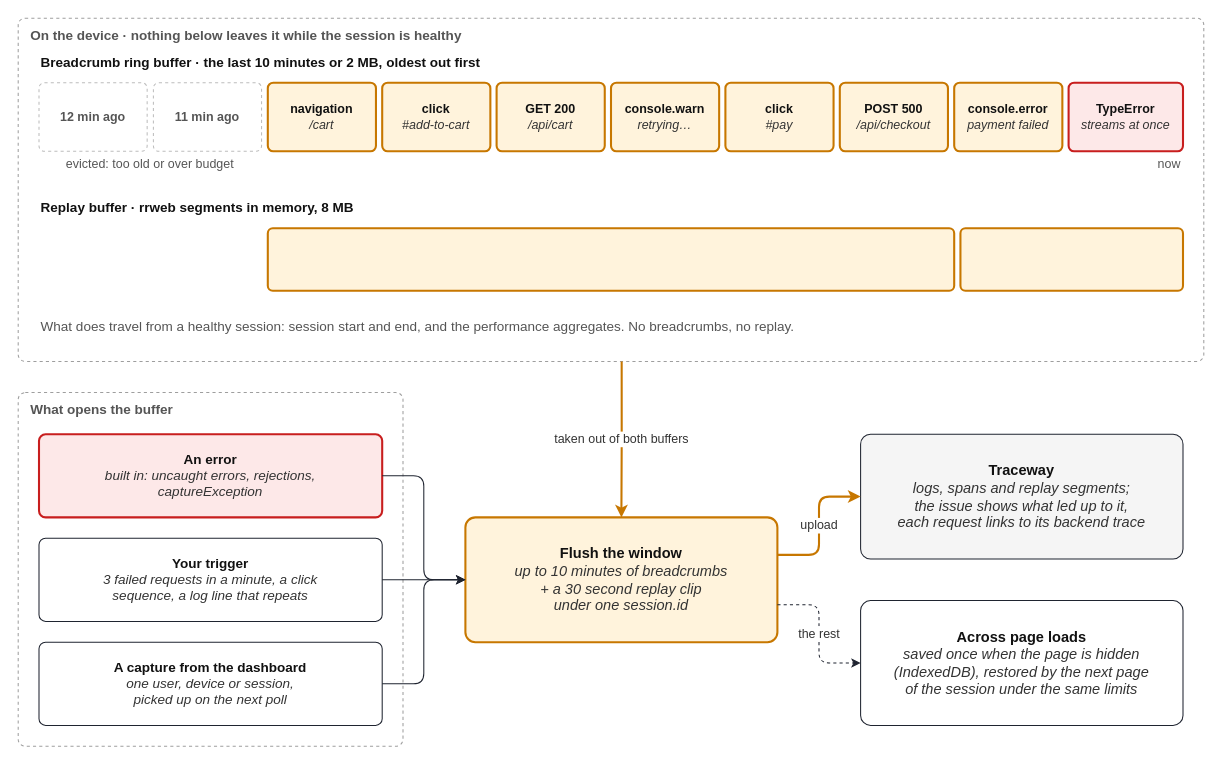
The diagram is 1222 pixels wide and 764 high, and some of its shapes have lost their labels. The shapes that lost their labels are listed below. From the top down, each one's centre as x and y in pixels, then its label:
(x=610, y=259): DOM changes, scrolling, pointer; inputs masked
(x=1071, y=259): last 30 s the error clip
